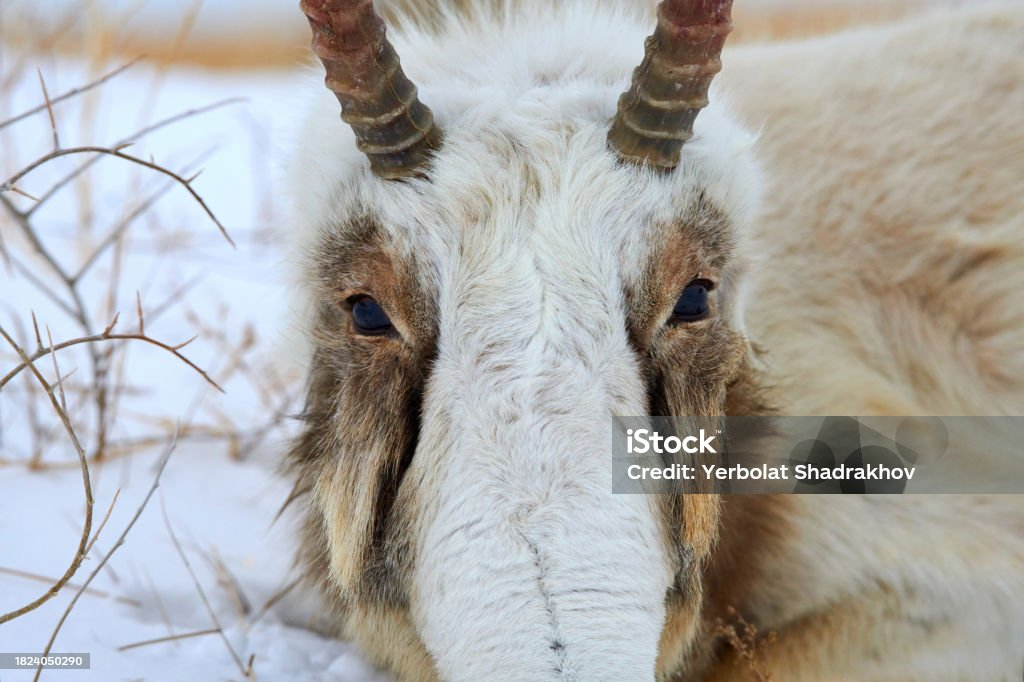saiga: (203, 1, 1015, 682)
